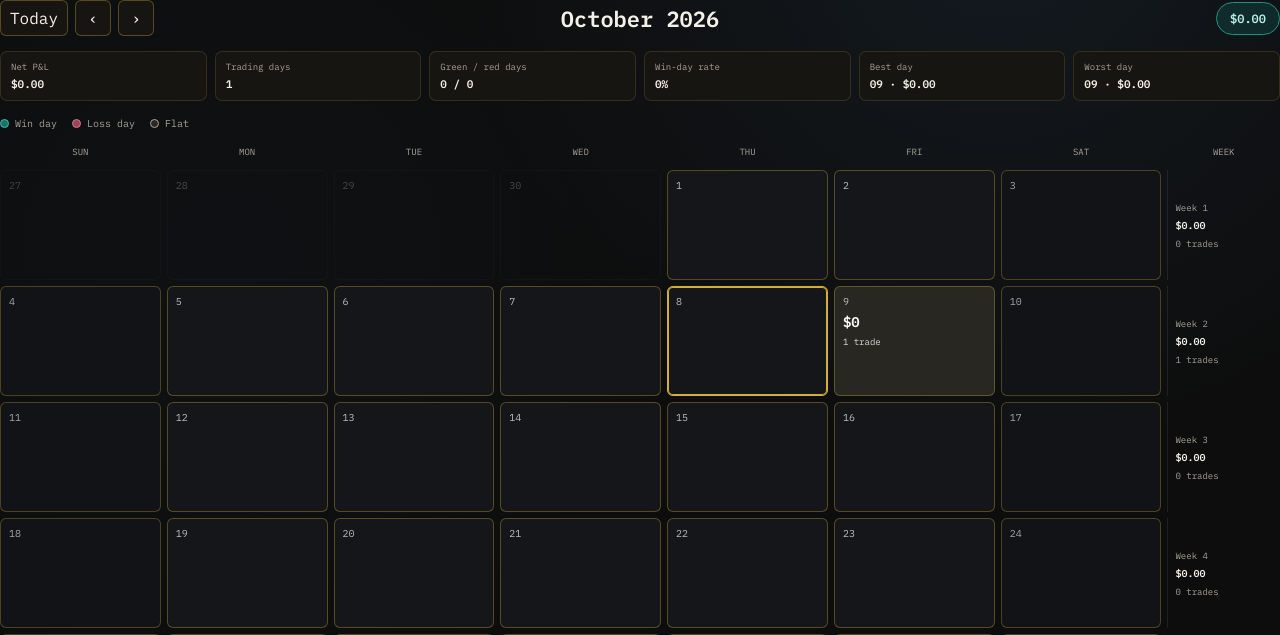
Test case: JournalCalendar › assigns flat-day styling and always renders the English month title
This screenshot has width=1280, height=635.
Expected: the heading "October 2026" is shown, [561, 4, 719, 32]
Click the cell named "Oct 9, 1 trade, net $0.00": x=914, y=341 [834, 286, 995, 396]
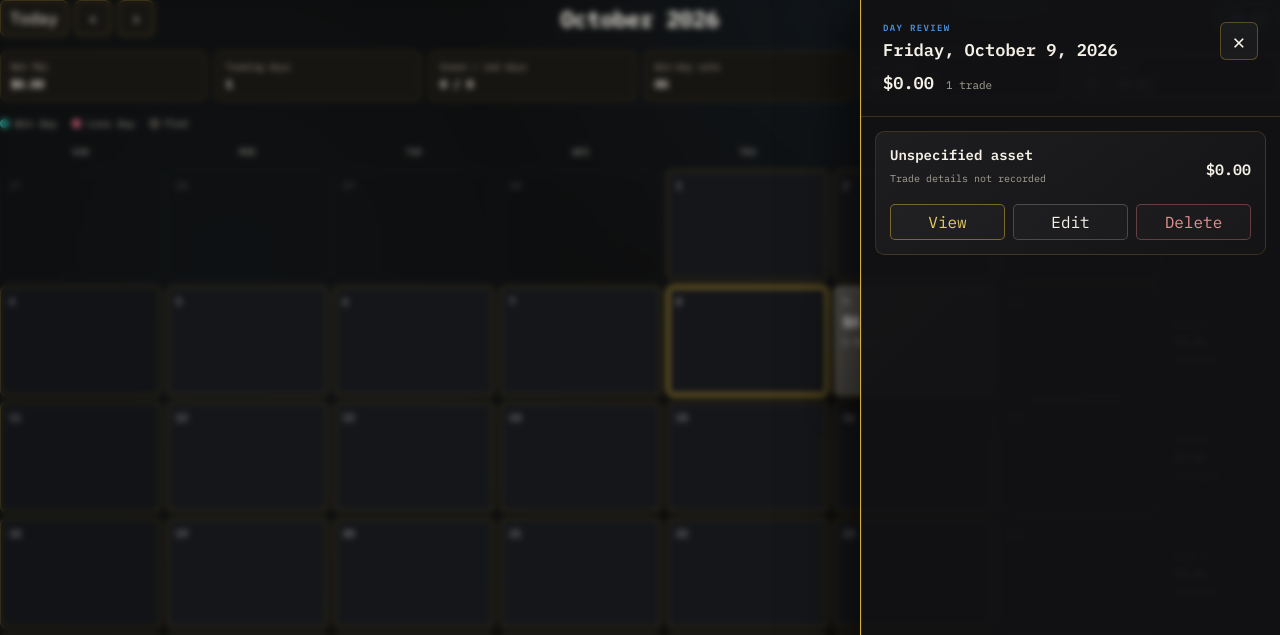
Expected: the heading "Friday, October 9, 2026" is shown, [883, 39, 1118, 63]
